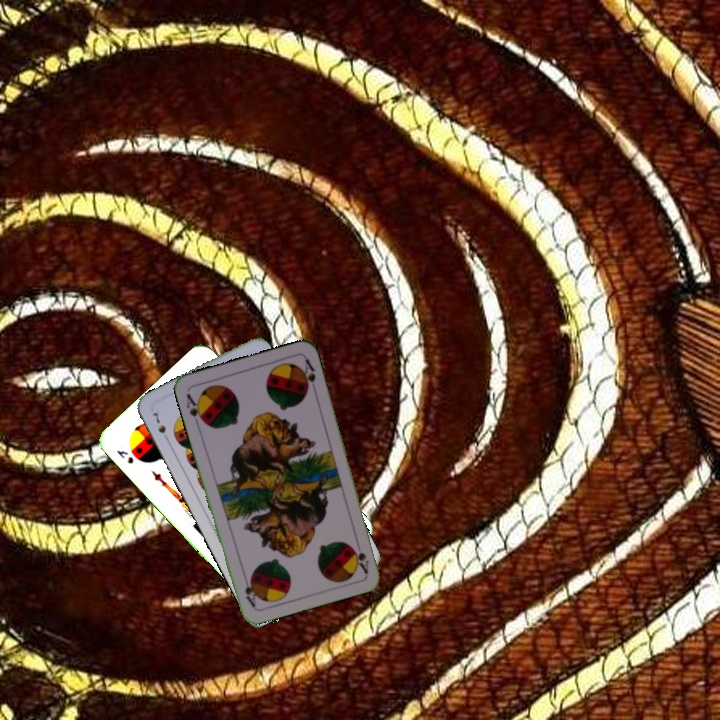S7: (149, 408, 172, 444)
SA: (182, 389, 208, 428), (349, 536, 371, 576)
SK: (112, 446, 136, 466)
